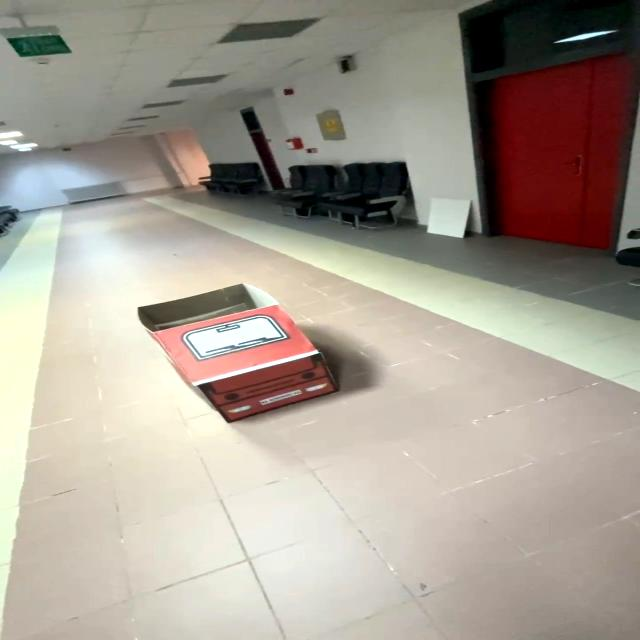red_car: (114, 273, 385, 442)
